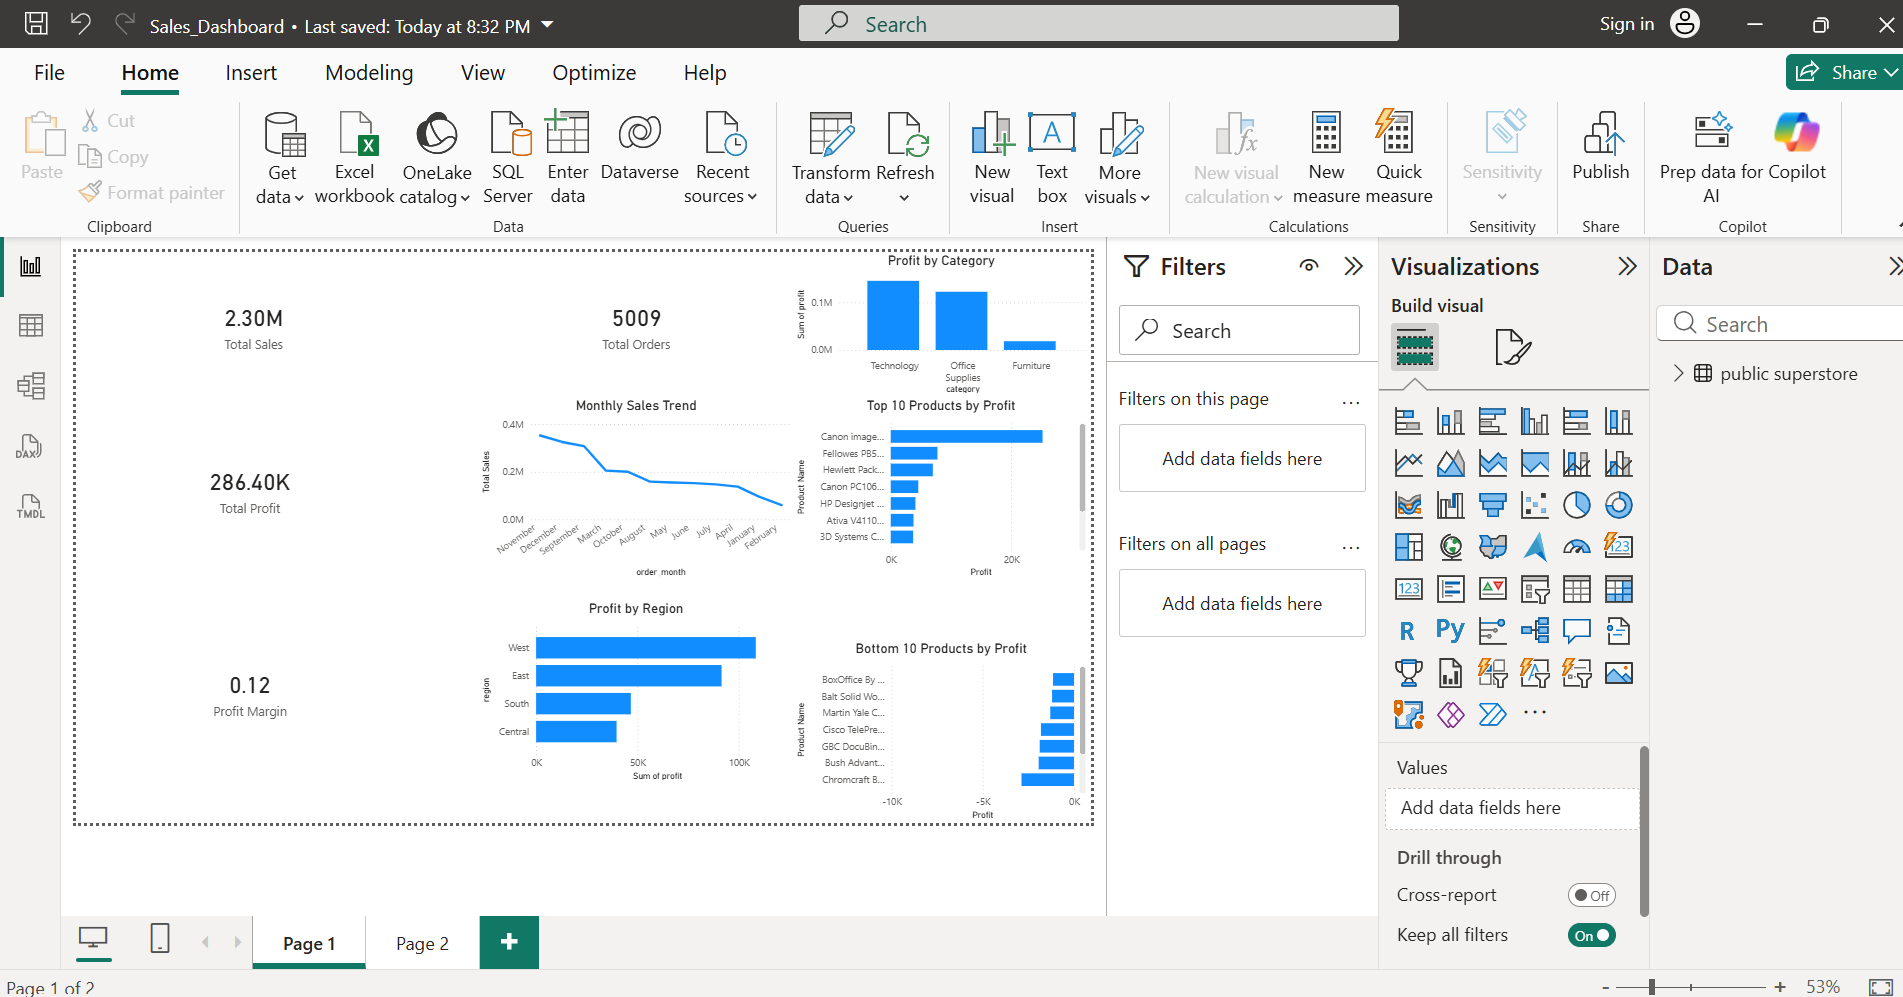

Layout of this report page (visuals, bound fields, positions):
{"tool":"powerbi","page":{"name":"Page 1","canvas":[1280,720],"ordinal":0},"visuals":[{"type":"card","fields":{"Values":["Sum(public superstore.Total Sales)"]},"box":[9.4,0,429,183.3],"z":0},{"type":"card","fields":{"Values":["Sum(public superstore.profit)"]},"box":[0,183.3,438.4,230.6],"z":1000},{"type":"card","fields":{"Values":["public superstore.Profit Margin %"]},"box":[0,438.4,438.4,230.6],"z":2000},{"type":"card","fields":{"Values":["public superstore.Total Orders"]},"box":[506.5,0,398.7,183.3],"z":3000},{"type":"lineChart","title":"Monthly Sales Trend","fields":{"Category":["public superstore.order_month"],"Y":["Sum(public superstore.Total Sales)"]},"box":[506.5,183.3,398.7,230.6],"z":4000},{"type":"barChart","title":"Profit by Region","fields":{"Category":["public superstore.region"],"Y":["Sum(public superstore.profit)"]},"box":[506.5,438.4,398.7,232.4],"z":5000},{"type":"columnChart","title":"Profit by Category","fields":{"Category":["public superstore.category"],"Y":["Sum(public superstore.profit)"]},"box":[905.2,0,374.2,183.3],"z":6000},{"type":"barChart","title":"Top 10 Products by Profit","fields":{"Category":["public superstore.product_name"],"Y":["Sum(public superstore.profit)"]},"box":[905,183,374,231],"z":7000},{"type":"barChart","title":"Bottom 10 Products by Profit","fields":{"Category":["public superstore.product_name"],"Y":["Sum(public superstore.profit)"]},"box":[905.2,489.5,374.2,230.6],"z":8000}]}

Visuals, with their boxes on the page's 1280x720 design canvas (x1, y1, x2, y2). These are canvas units, not pixel positions in the 1903x997 screenshot, which may show the page scaled, cropped or inside an application window:
card - Sum(public superstore.Total Sales): (9, 0, 438, 183)
card - Sum(public superstore.profit): (0, 183, 438, 414)
card - public superstore.Profit Margin %: (0, 438, 438, 669)
card - public superstore.Total Orders: (506, 0, 905, 183)
"Monthly Sales Trend" lineChart: (506, 183, 905, 414)
"Profit by Region" barChart: (506, 438, 905, 671)
"Profit by Category" columnChart: (905, 0, 1279, 183)
"Top 10 Products by Profit" barChart: (905, 183, 1279, 414)
"Bottom 10 Products by Profit" barChart: (905, 490, 1279, 720)
